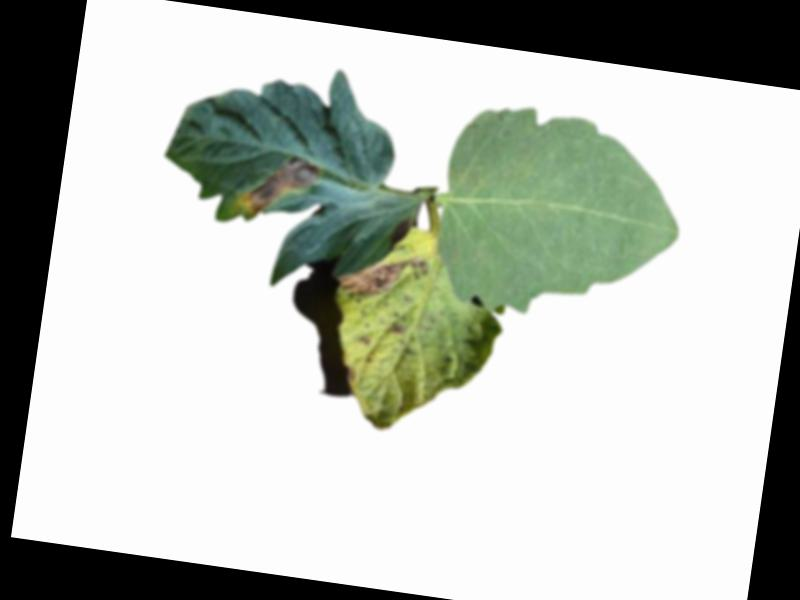Early_blight: (234, 149, 325, 226), (333, 248, 433, 310), (383, 317, 408, 337), (358, 333, 373, 350), (345, 366, 358, 383)
